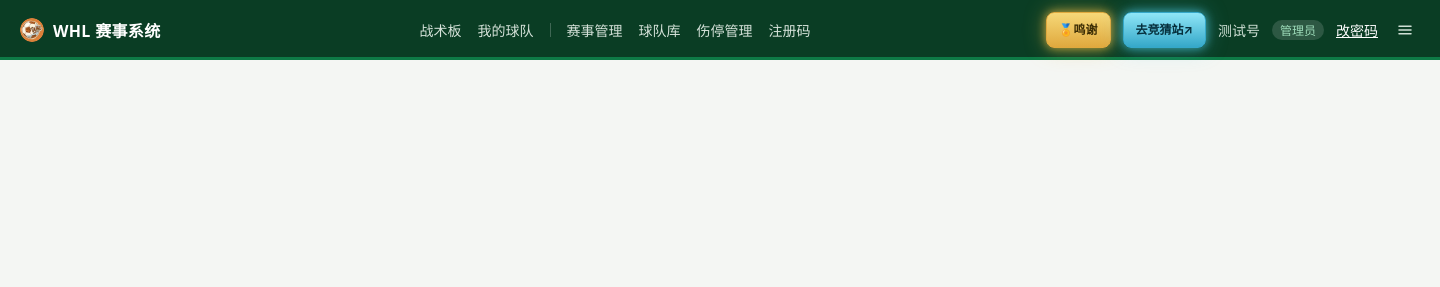
Scenario: 顶栏 ≡ 菜单（时区 + 登出收纳） › 已登录（shared）：登出同样收在菜单内
This screenshot has width=1440, height=287.
Click the button with class "user-menu-btn" at (1405, 30), box [1390,17,1420,43]
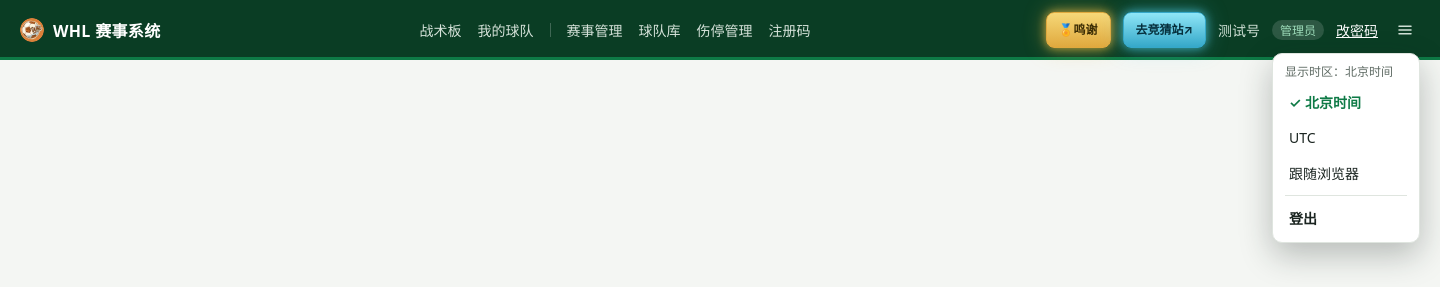
Result: the menu item "登出" is shown at [1279,200,1413,236]
